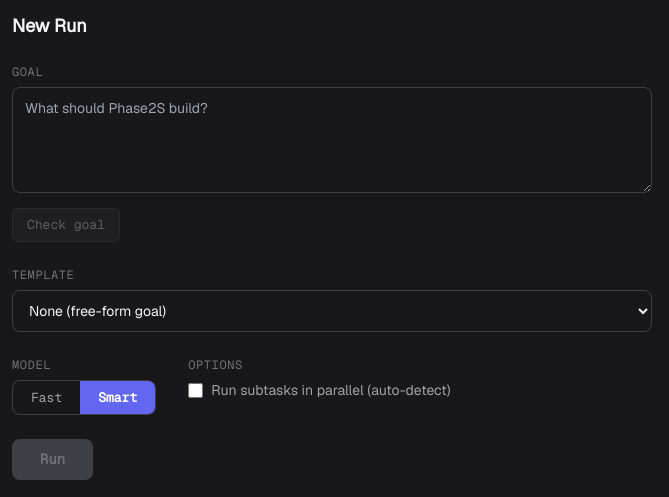
Test case: NewRunPage › Lint button becomes enabled when goal has text
In the text box labelled "Goal": (332, 140) [12, 87, 652, 193], type "Build something"
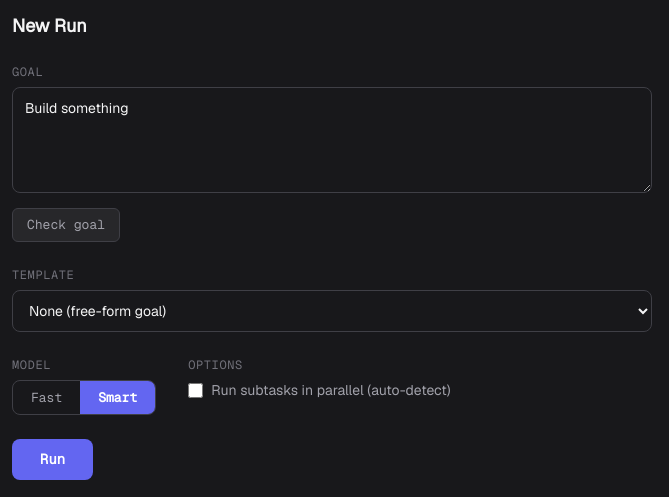
Check: the button "Check goal" is enabled, box [12, 208, 120, 242]
